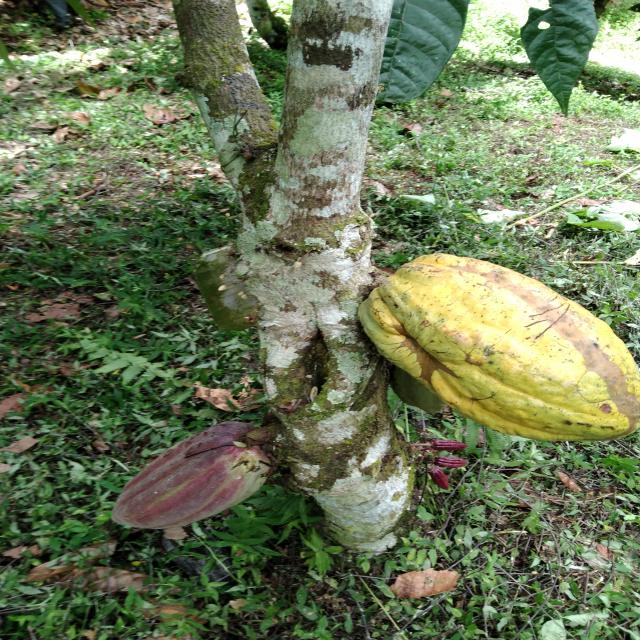Sana: (351, 254, 640, 437), (112, 425, 273, 529), (422, 454, 477, 473), (423, 436, 472, 454), (427, 462, 453, 490)
